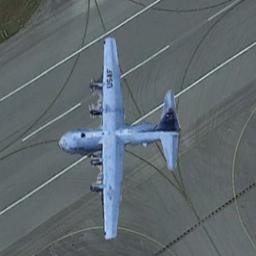Airplane: (57, 36, 181, 240)
